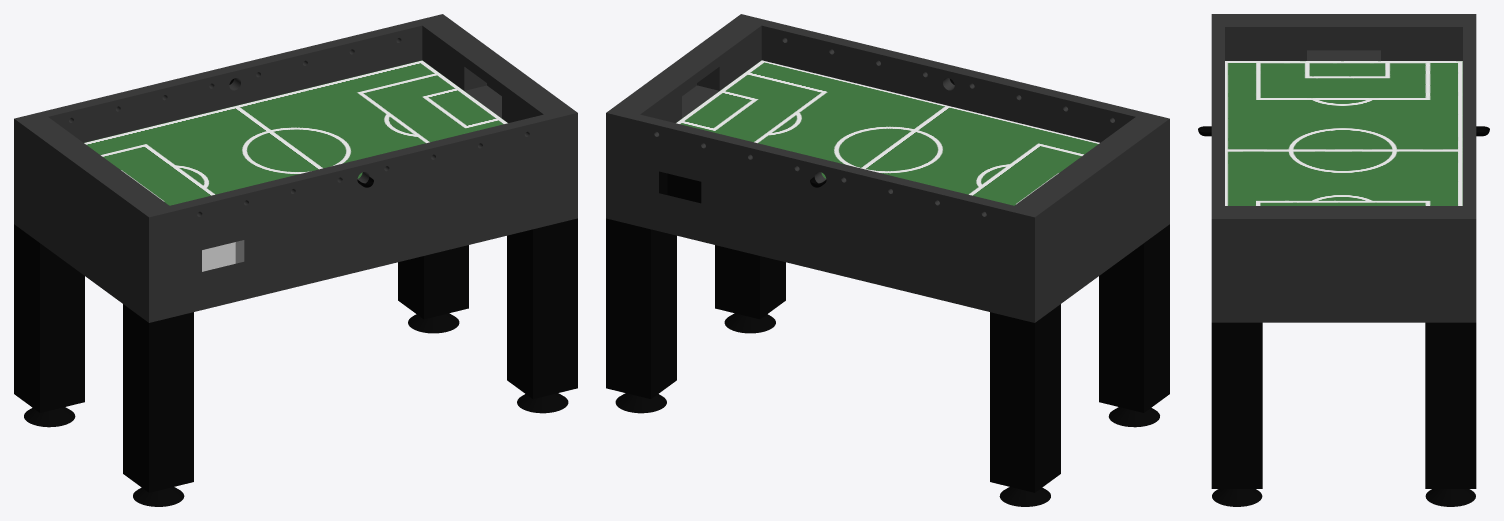
Rendered from Table.dae.
3 views of the same model, side by side, from view 1: azimuth 30°, elevation 25°; view 2: azimuth 150°, elevation 25°; view 3: azimuth 270°, elevation 25° (orthographic). The views are drawn at different scales.
Parts seen in each view (by area): view 1: Table_Body, Table_Legs, Play_Field, Return_Hole2; view 2: Table_Body, Table_Legs, Play_Field, Return_Hole1; view 3: Table_Body, Play_Field, Table_Legs.
Part boxes in pixels (left/top/right/bottom): Table_Body: left=14, top=14, right=577, bottom=322; Table_Legs: left=14, top=218, right=577, bottom=506; Play_Field: left=84, top=60, right=507, bottom=205; Return_Hole2: left=202, top=240, right=244, bottom=271; Table_Body: left=606, top=14, right=1169, bottom=322; Table_Legs: left=606, top=218, right=1169, bottom=506; Play_Field: left=676, top=60, right=1099, bottom=205; Return_Hole1: left=659, top=171, right=701, bottom=203; Table_Body: left=1211, top=14, right=1476, bottom=322; Play_Field: left=1225, top=61, right=1462, bottom=205; Table_Legs: left=1211, top=322, right=1476, bottom=506.
Size of the model in its own units: 1.4 by 0.8404 by 0.9143.
3 materials, 1 textured.
